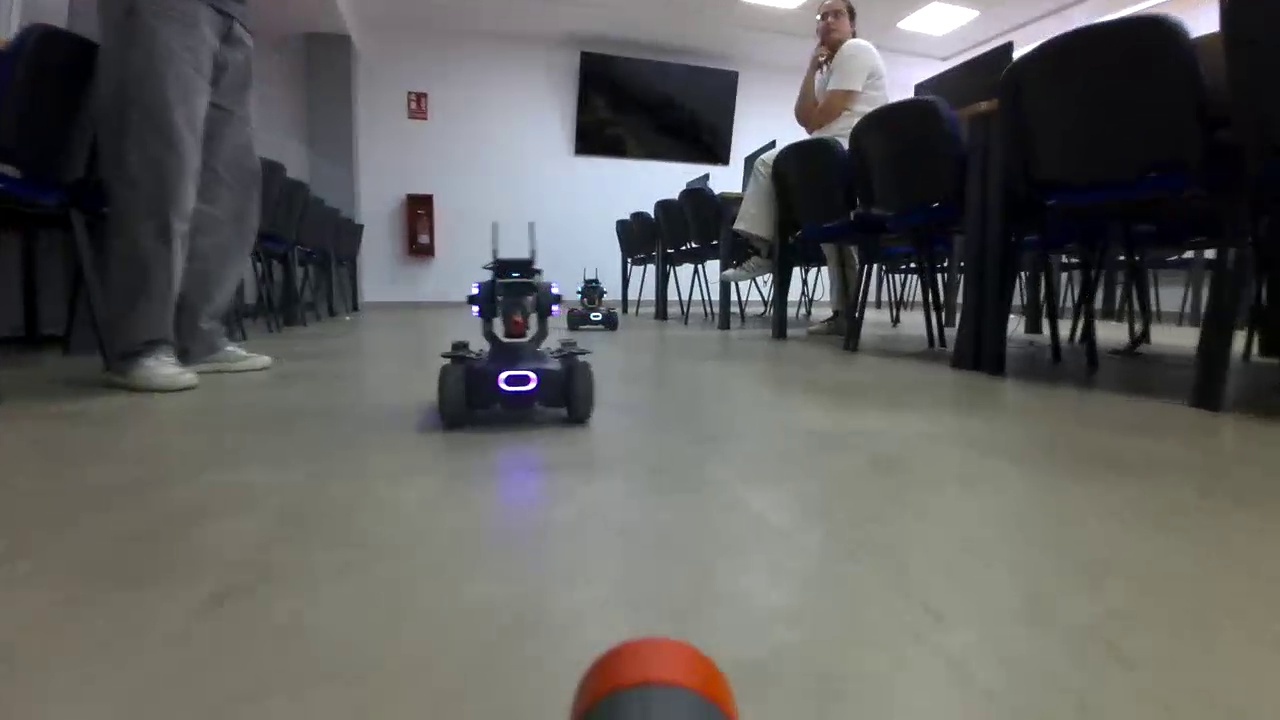robot: (435, 255, 598, 428), (565, 265, 618, 330)
